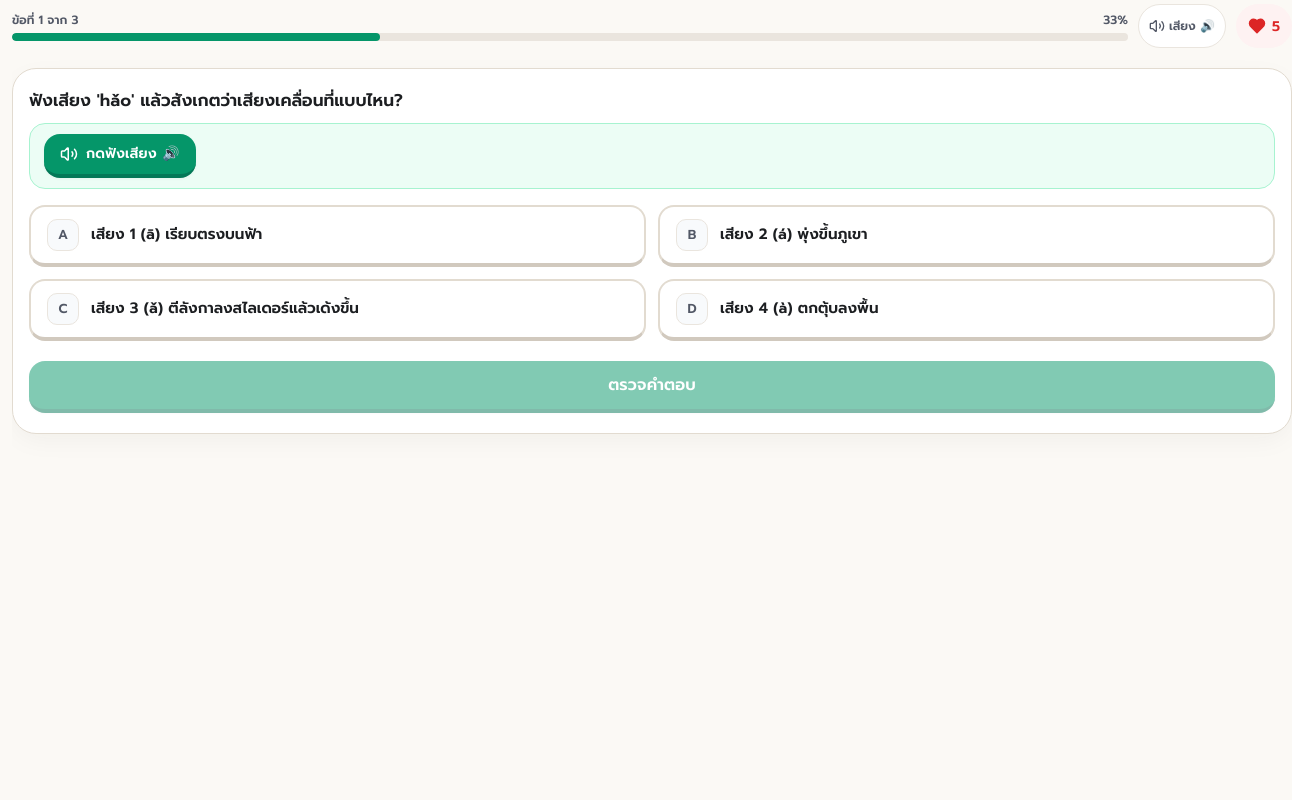
Test case: QuizContainer Component (Phase 2 Slice 2.5) › Multiple Choice Interaction › allows selecting option and checking correct answer
Expected: the button with aria-label "ตรวจคำตอบ" is disabled, x1=29 y1=361 x2=1275 y2=413
Click the radio button labelled "C เสียง 3 (ǎ) ตีลังกาลงสไลเดอร์แล้วเด้งขึ้น".
click(338, 310)  # box x1=29 y1=279 x2=646 y2=341
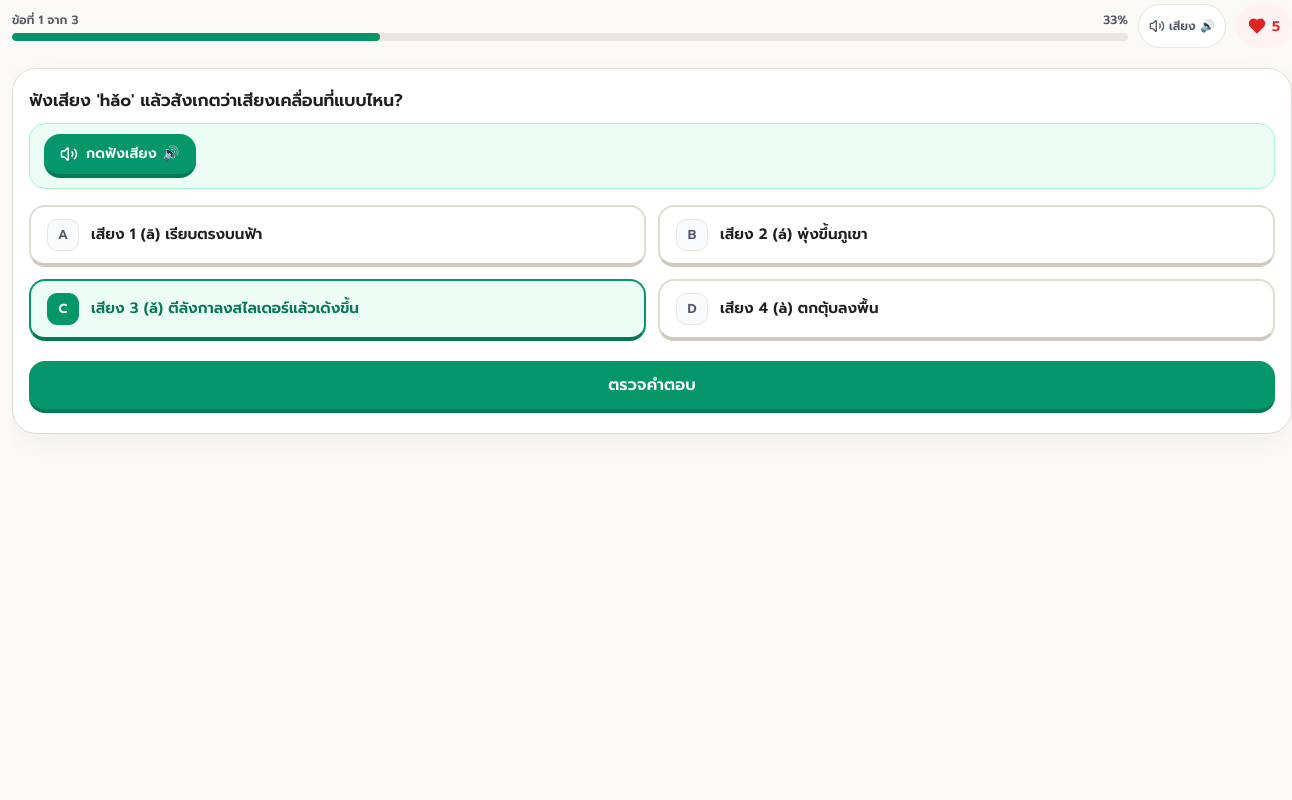
Expected: the button with aria-label "ตรวจคำตอบ" is enabled
Click the button with aria-label "ตรวจคำตอบ".
click(652, 387)  # box x1=29 y1=361 x2=1275 y2=413
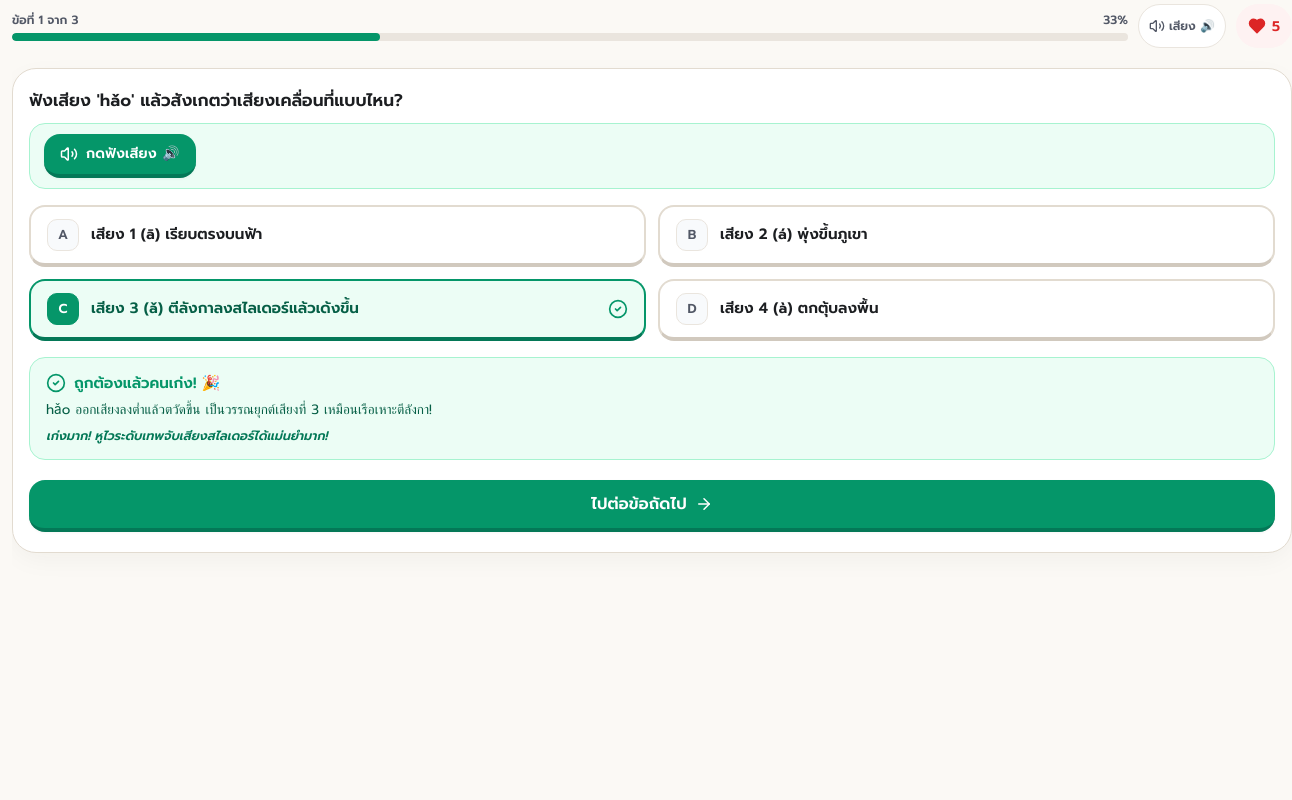
Expected: the text "ถูกต้องแล้วคนเก่ง!" is shown, x1=74 y1=372 x2=220 y2=394
Expected: the text "hǎo ออกเสียงลงต่ำแล้วตวัดขึ้น" is shown, x1=46 y1=399 x2=432 y2=420
Expected: the text "เก่งมาก! หูไวระดับเทพ" is shown, x1=46 y1=426 x2=327 y2=444
